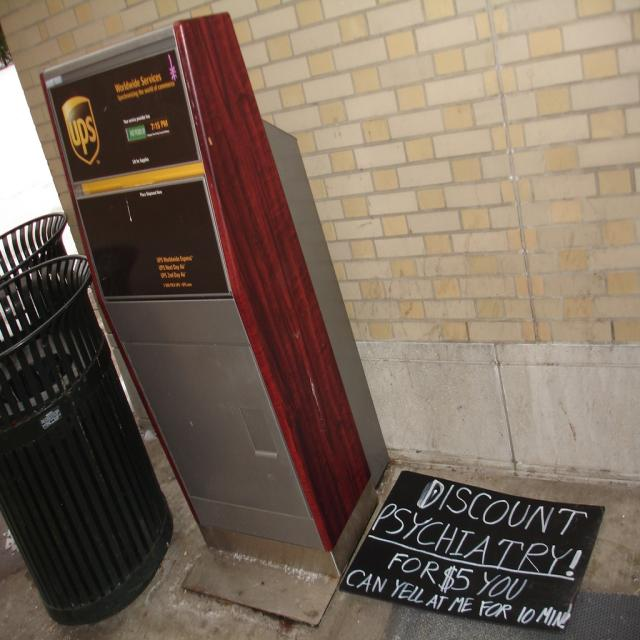ups: (62, 96, 102, 166)
